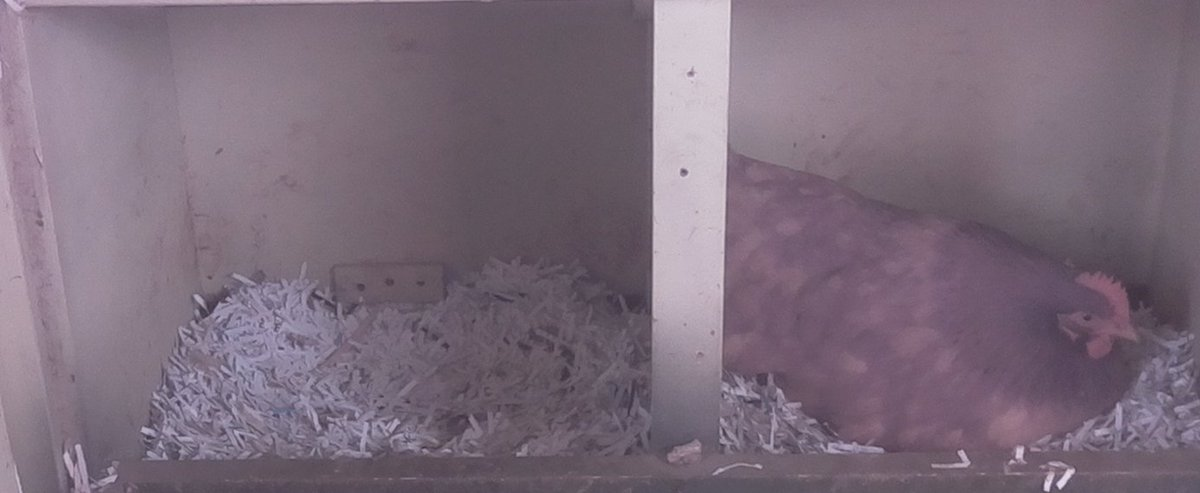hen: (729, 136, 1155, 454)
